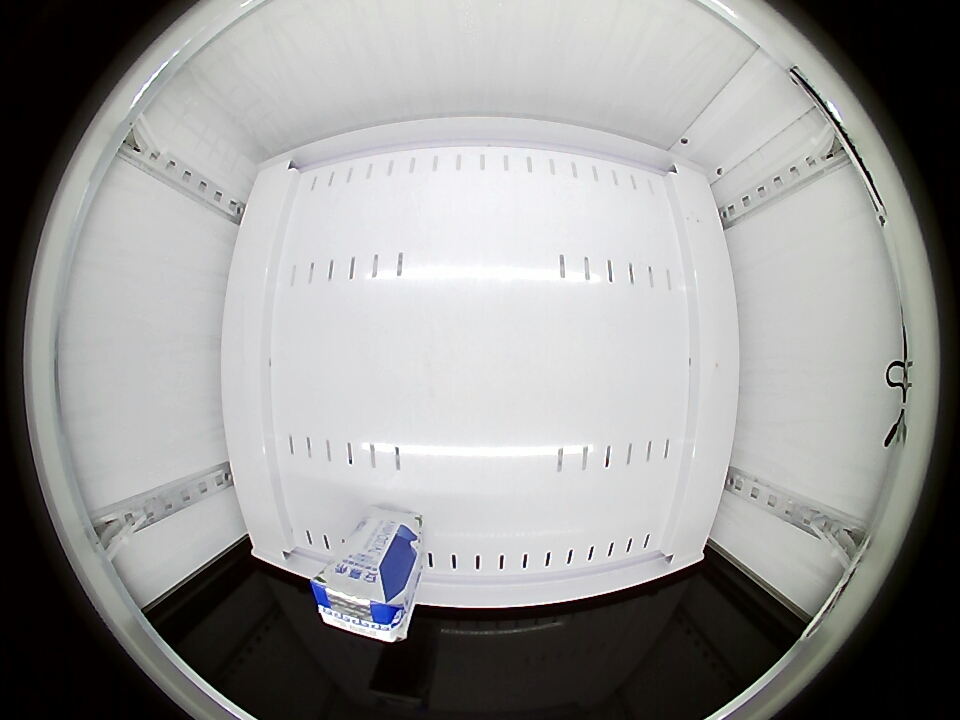anmuxi: (310, 561, 410, 643)
